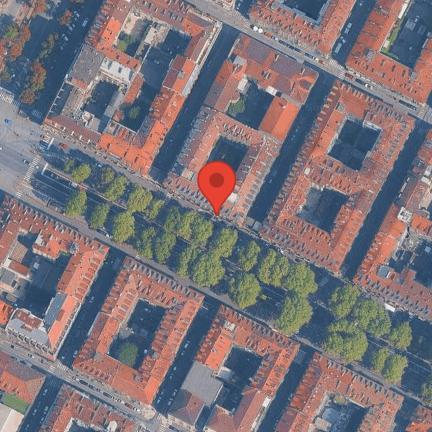built: (50, 0, 220, 171), (169, 33, 319, 220), (266, 78, 415, 264), (0, 196, 115, 367), (74, 259, 205, 407), (168, 306, 301, 431), (360, 129, 431, 314), (274, 358, 403, 431), (343, 0, 431, 106), (246, 0, 358, 58), (39, 379, 155, 431), (0, 348, 48, 431)
vegetation_high: (27, 134, 431, 411), (0, 13, 30, 90), (14, 60, 52, 106)
